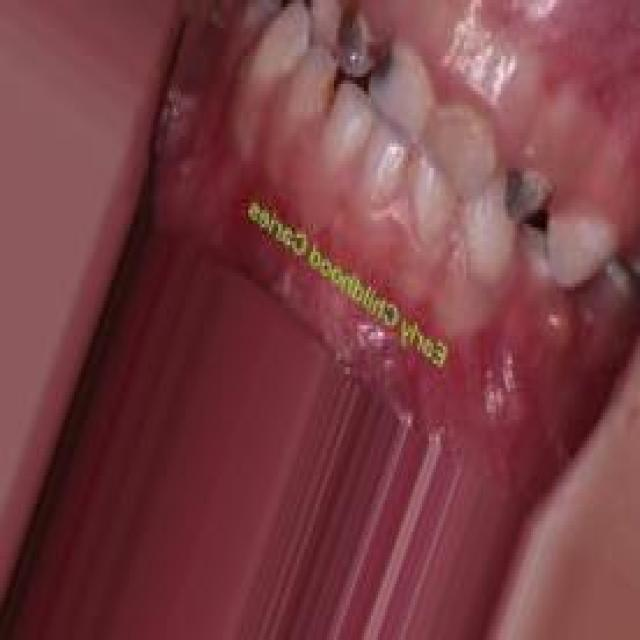caries: (329, 0, 396, 93), (502, 156, 552, 230), (607, 233, 640, 299)
